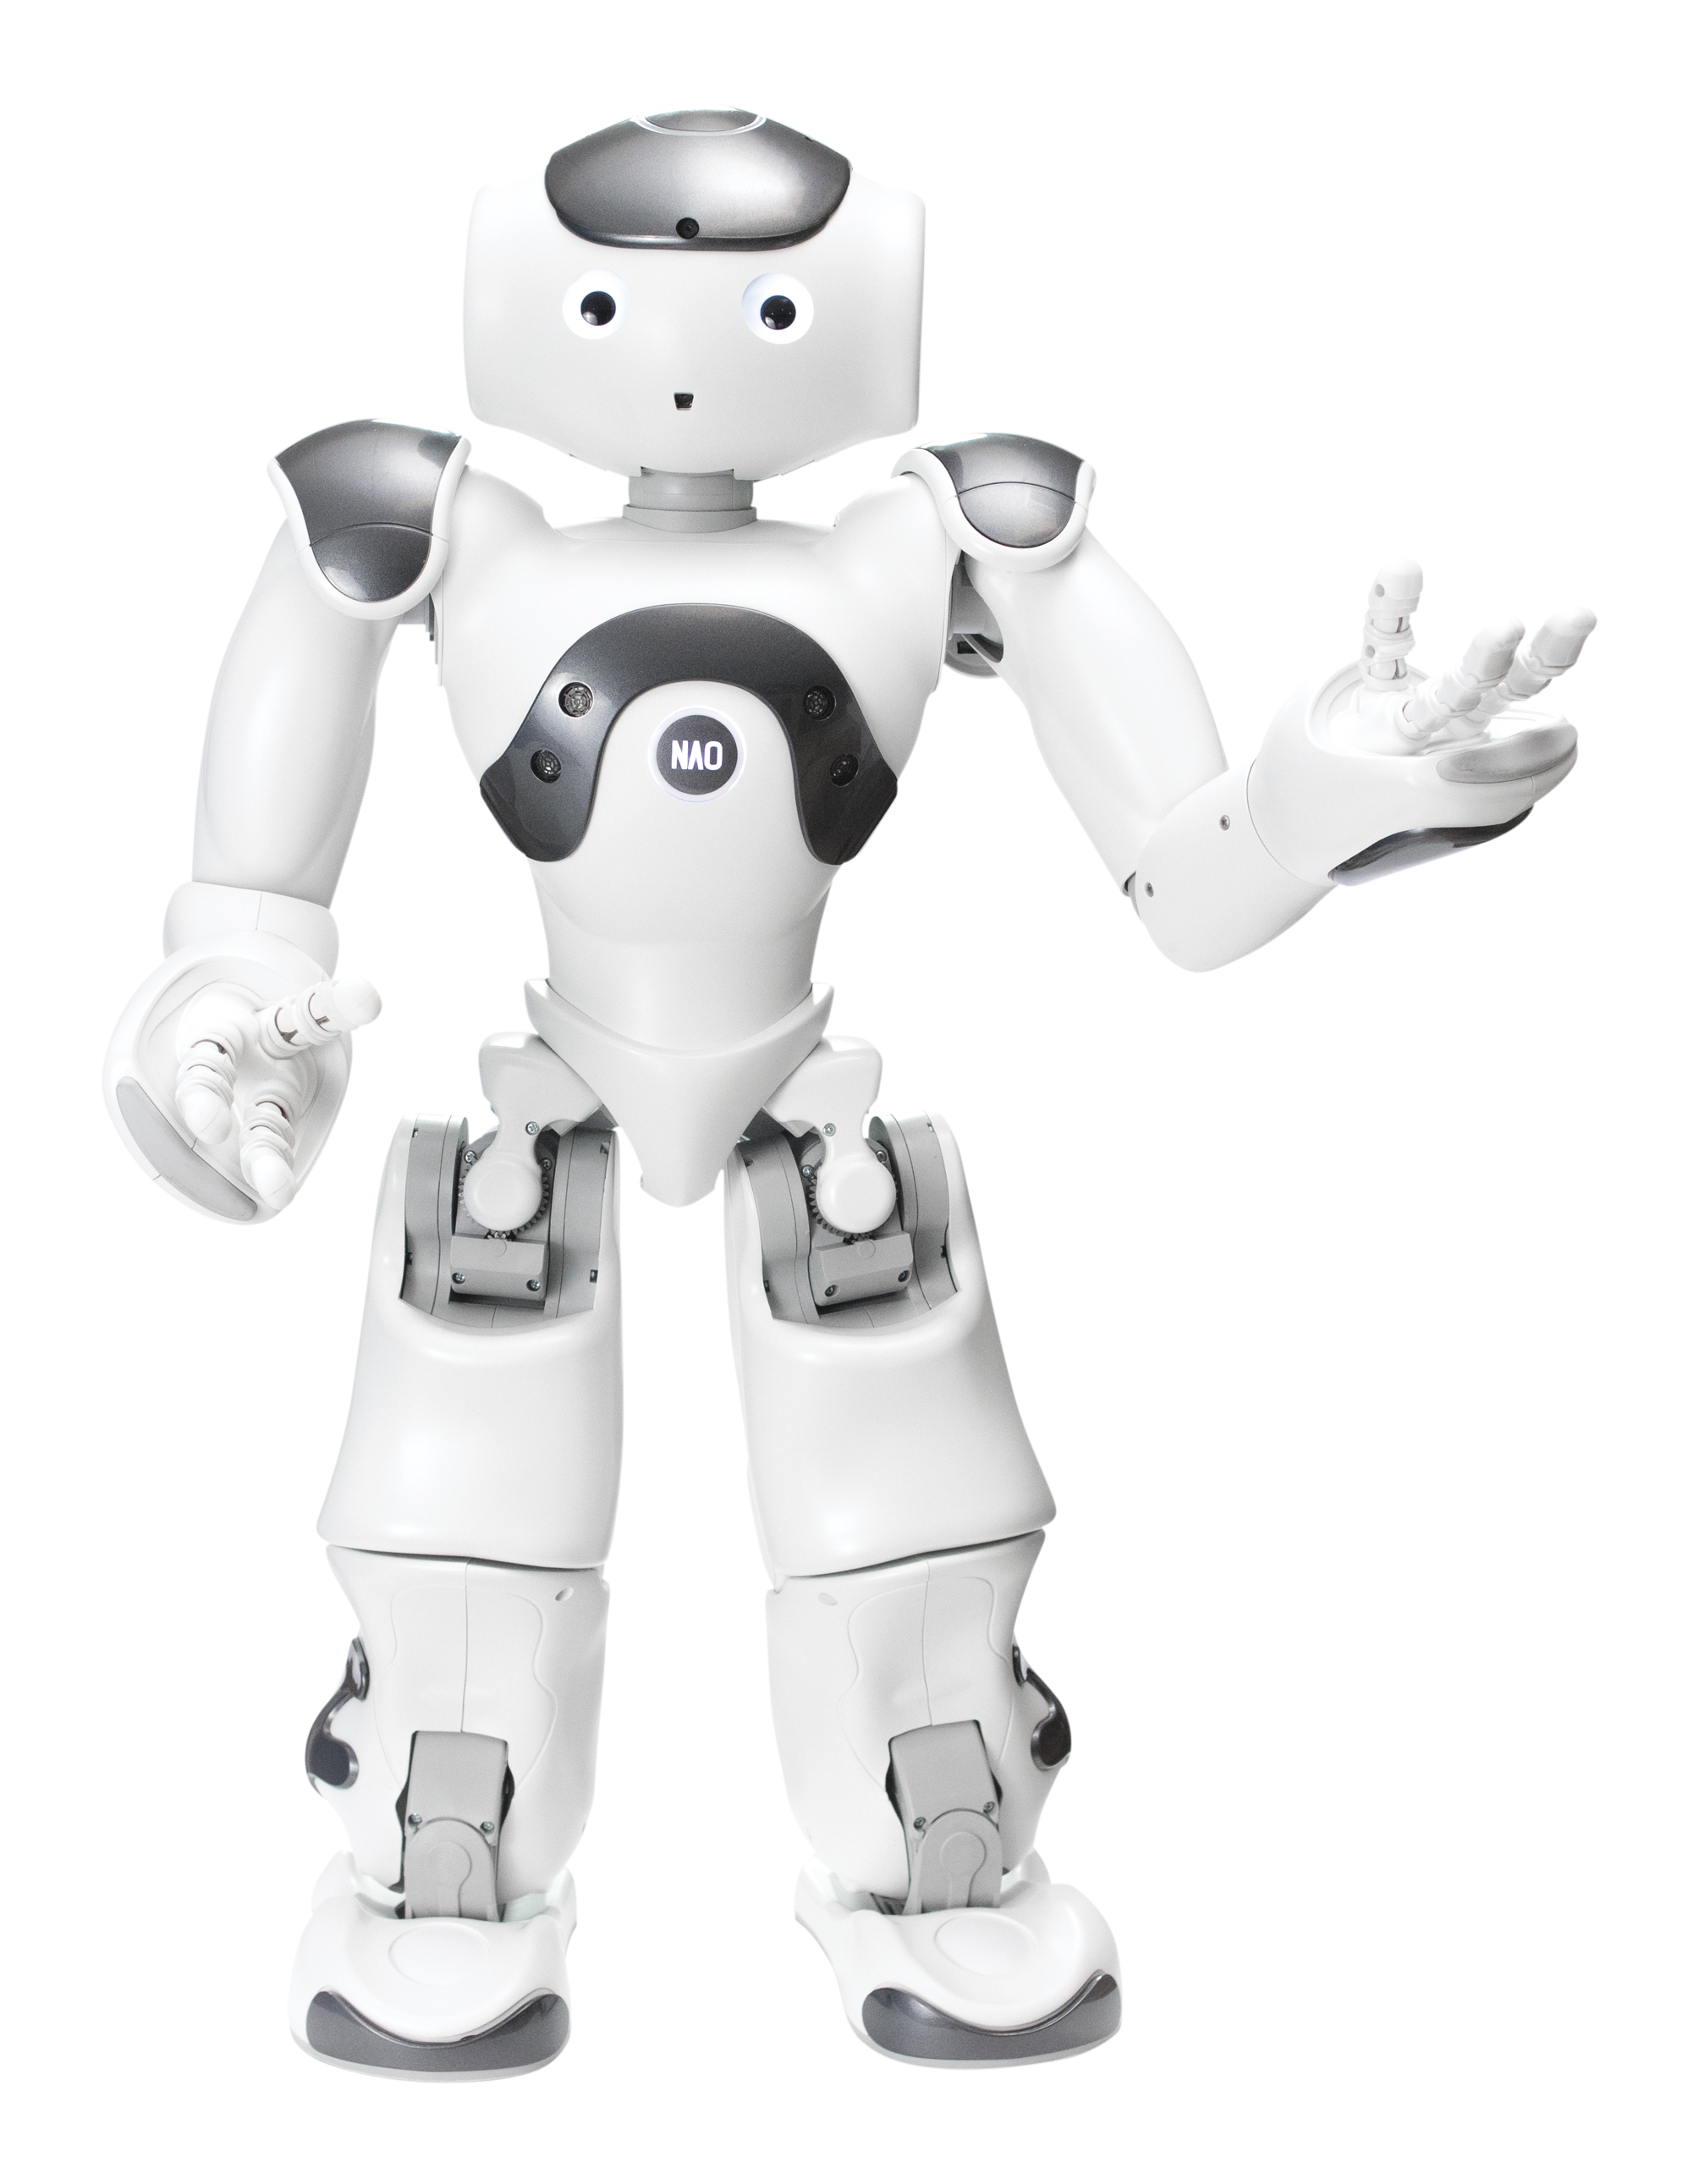nao: (108, 64, 1651, 2088)
